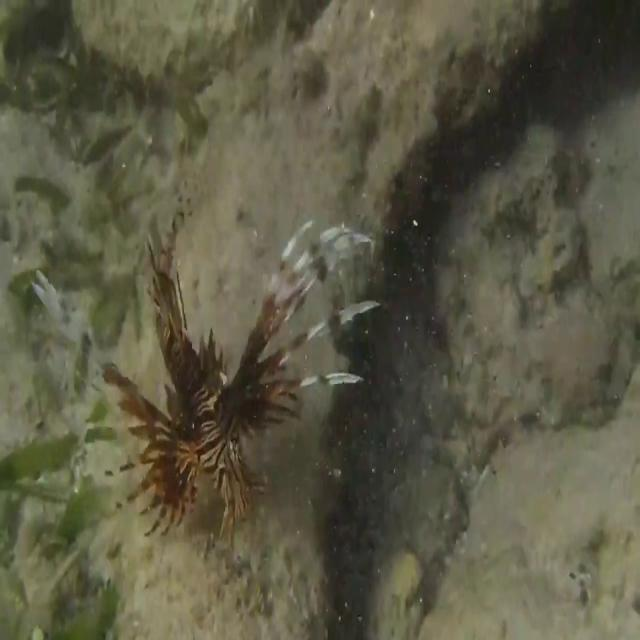Aslan Baligi: (101, 209, 381, 552)
